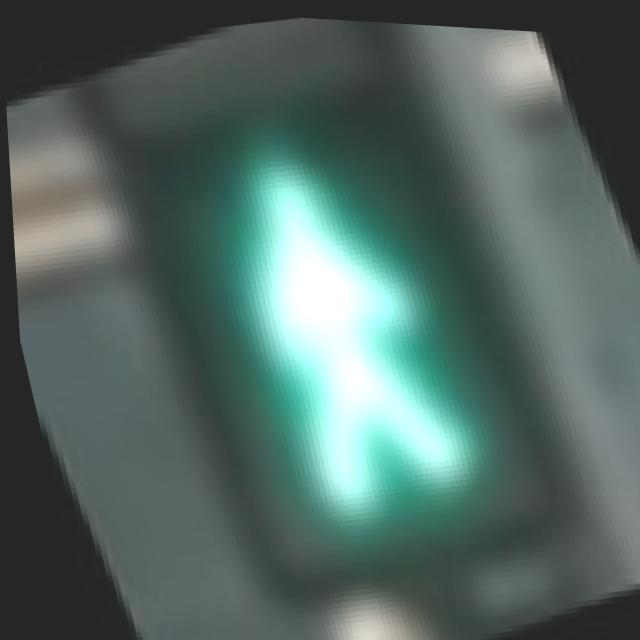green_light: (71, 58, 587, 631)
